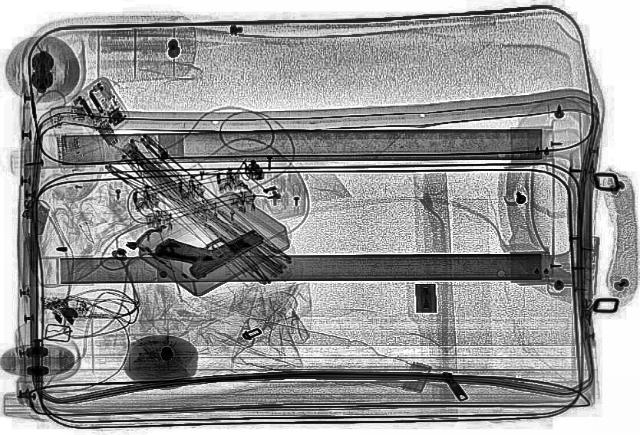Gun: (146, 207, 270, 283)
